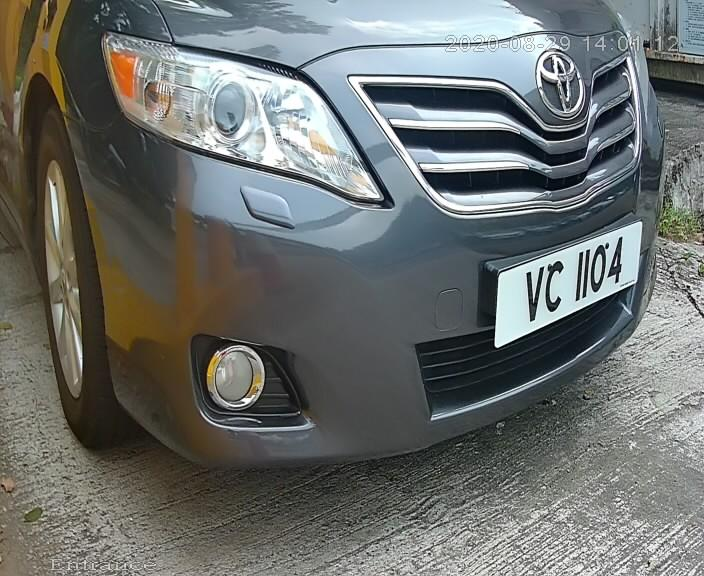License Plate: (481, 208, 652, 354)
